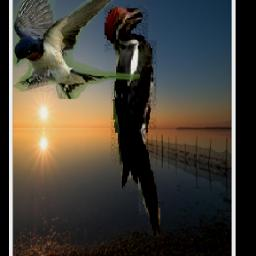Swallow: (14, 0, 141, 100)
Woodpecker: (105, 5, 161, 237)
